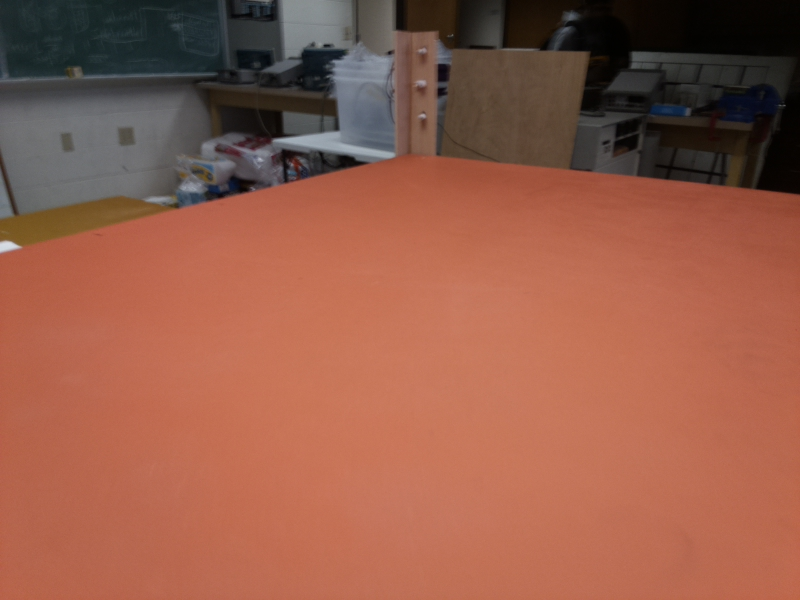corner: (393, 30, 438, 160)
